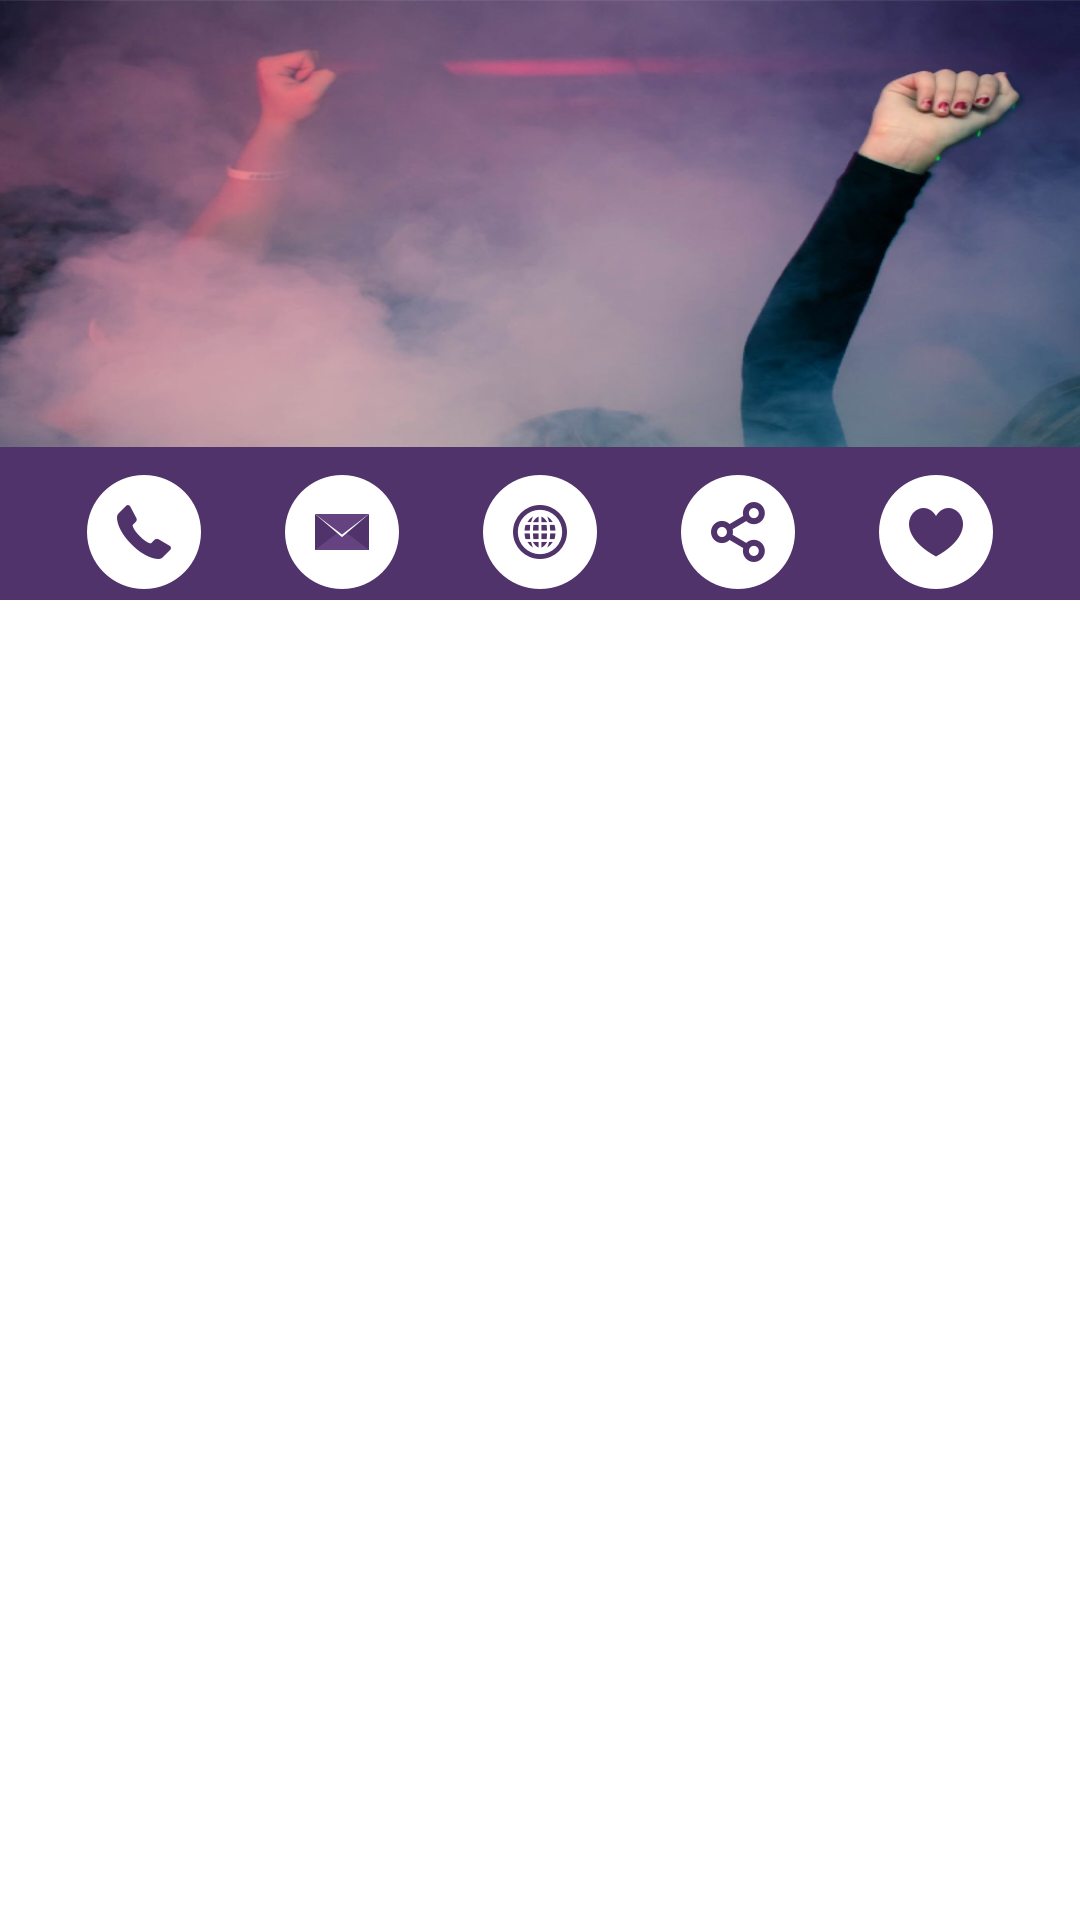

Named icons in this screenshot (1080 × 1920) and their bounding boxes, (x1, y1, x2, y2):
fav: (879, 475, 993, 589)
message: (285, 475, 399, 589)
phone: (87, 475, 201, 589)
share: (681, 475, 795, 589)
web: (483, 475, 597, 589)
